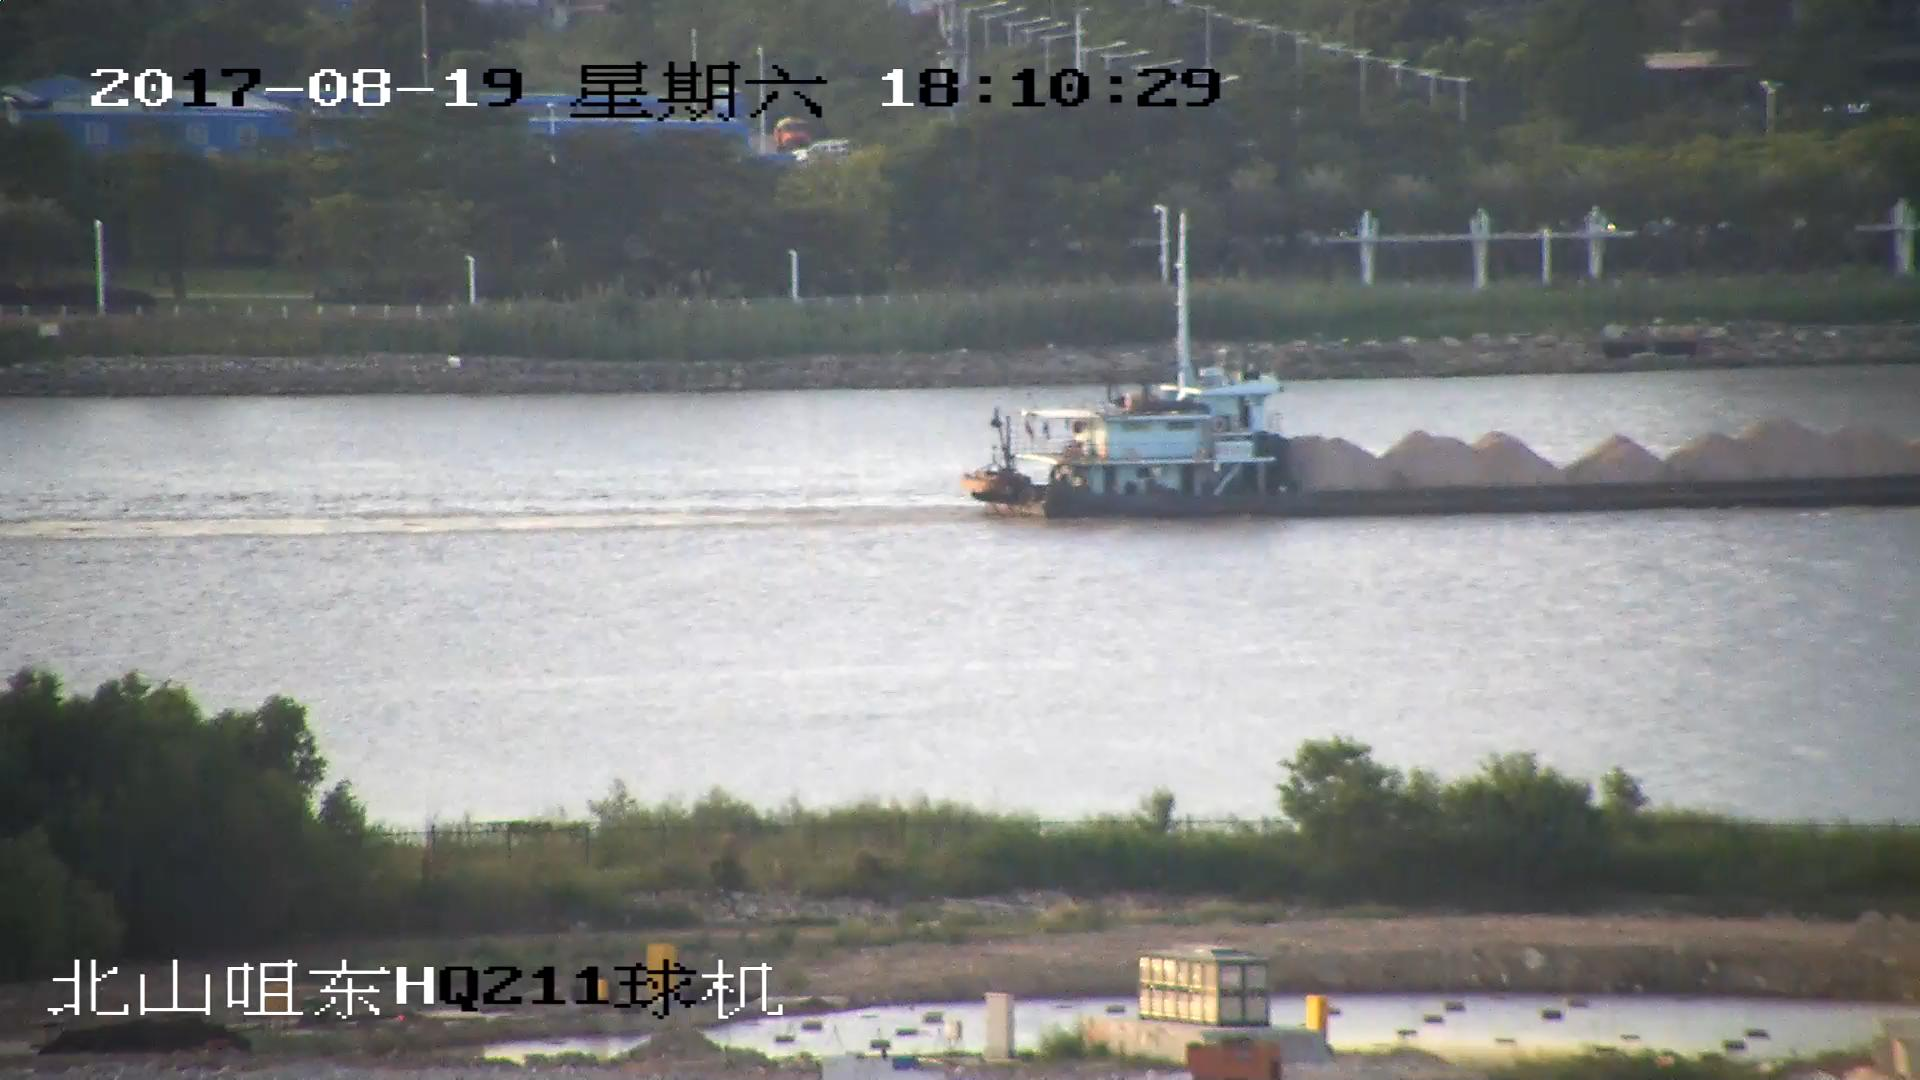ore carrier: (966, 207, 1920, 523)
